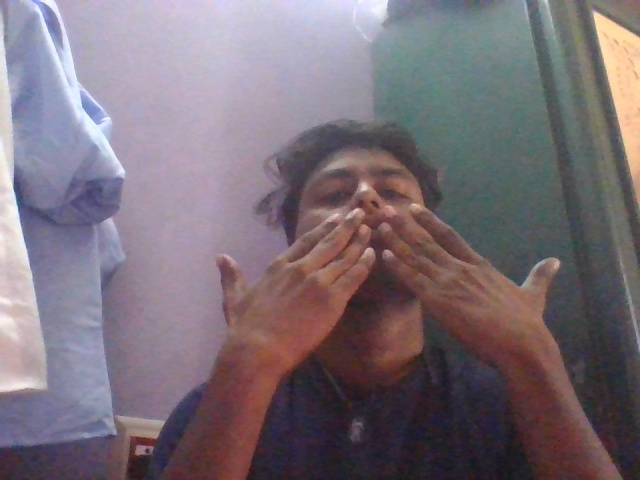thankyou: (207, 173, 582, 368)
